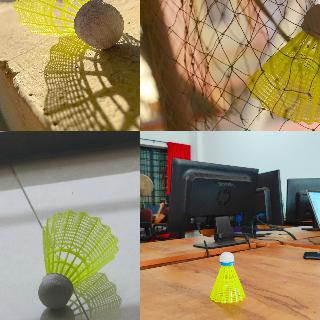shuttlecock: (247, 3, 319, 125), (38, 211, 118, 309), (13, 0, 123, 50), (210, 252, 246, 302)
